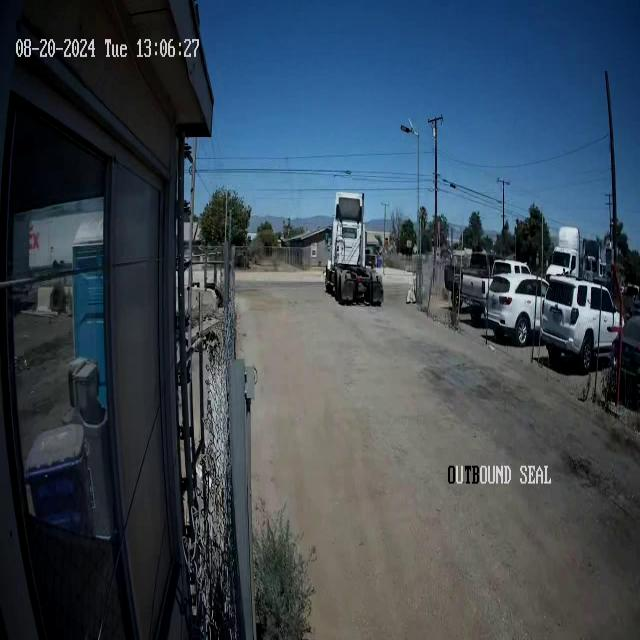BOBTAIL: (324, 190, 384, 307)
